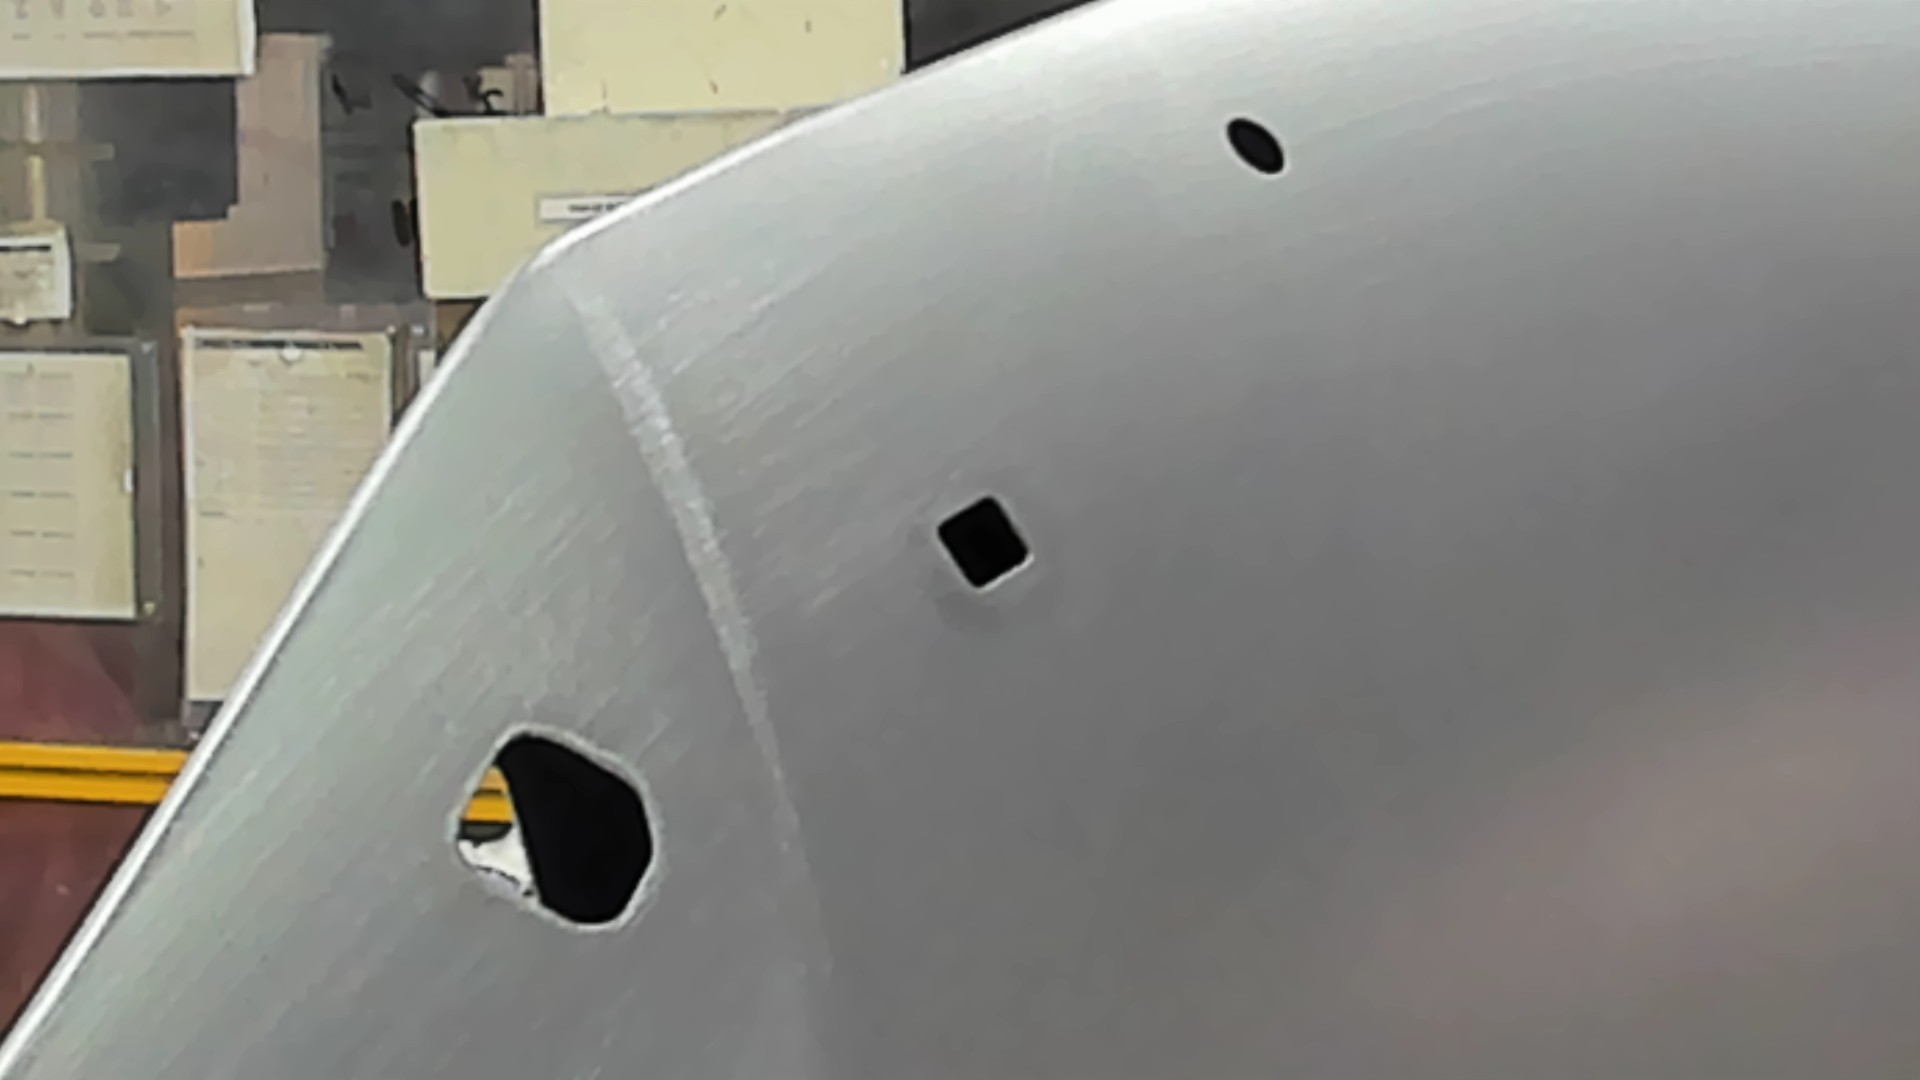chico: (1220, 115, 1291, 181)
grande: (439, 719, 659, 942)
mediano: (930, 492, 1036, 596)
